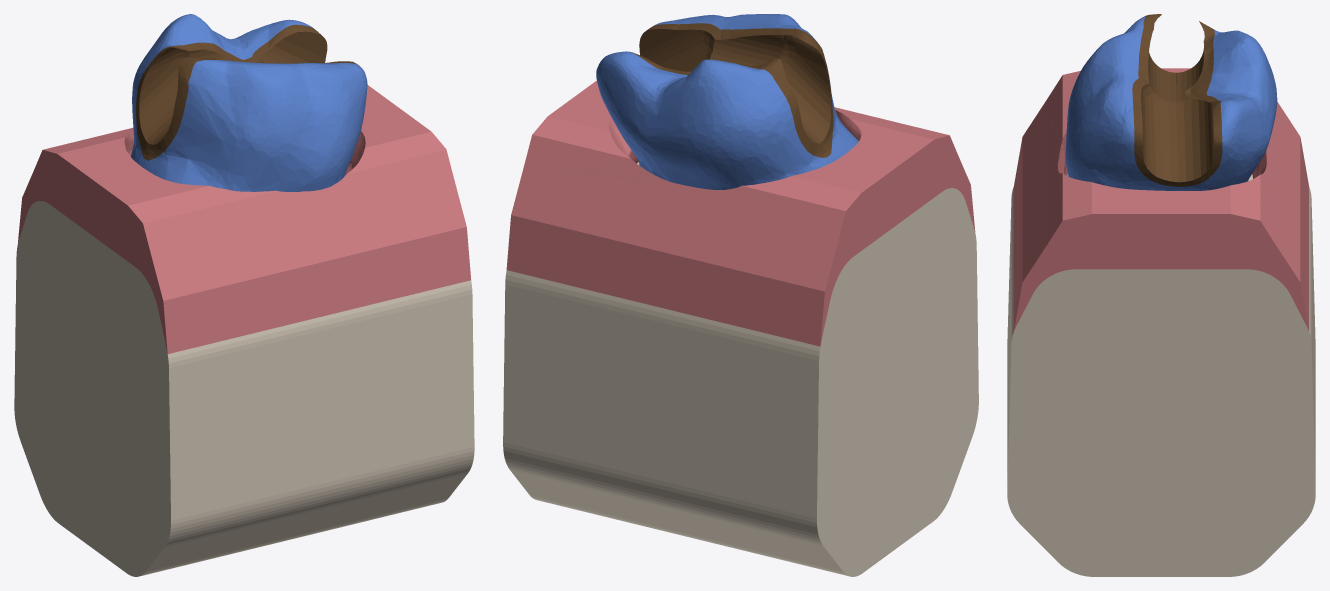
The model's file is decay.glb.
3 renders of one model, left to right at view 1: azimuth 30°, elevation 25°; view 2: azimuth 150°, elevation 25°; view 3: azimuth 270°, elevation 25°, orthographic. The views are drawn at different scales.
Parts seen in each view (by area): view 1: bone, gum, teeth, decay; view 2: bone, gum, teeth, decay; view 3: bone, gum, teeth, decay.
Boxes of the visible parts, x1,y1,x2,y2 form: bone: (14, 201, 474, 576); gum: (18, 85, 471, 353); teeth: (130, 14, 367, 191); decay: (136, 24, 358, 160); bone: (503, 162, 978, 576); gum: (506, 80, 975, 346); teeth: (596, 14, 858, 189); decay: (629, 23, 833, 157); bone: (1007, 173, 1315, 576); gum: (1014, 68, 1308, 330); teeth: (1065, 16, 1277, 190); decay: (1132, 14, 1222, 186).
Size of the model in its own units: 0.0142 by 0.0209 by 0.0127.
